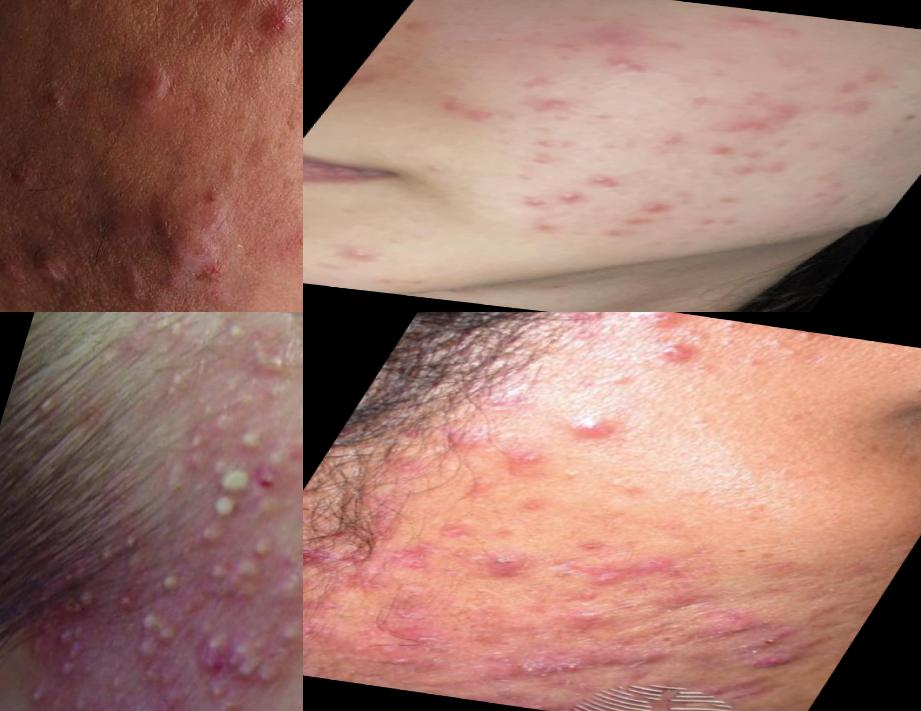cystic: (108, 175, 257, 313), (115, 47, 184, 125), (14, 242, 87, 300), (258, 1, 304, 63)
keloid: (443, 615, 703, 711), (696, 670, 777, 708), (685, 607, 755, 649), (738, 654, 795, 677)
papular: (571, 542, 710, 610), (690, 7, 802, 43), (184, 1, 304, 34), (574, 213, 680, 248), (562, 53, 677, 85), (728, 101, 814, 143), (548, 405, 631, 448), (462, 546, 543, 586), (416, 95, 509, 127), (640, 336, 714, 373), (320, 239, 404, 270), (797, 175, 871, 209), (571, 22, 657, 51), (510, 135, 584, 168), (717, 155, 800, 184), (495, 442, 556, 475), (521, 94, 591, 119), (504, 70, 572, 95), (622, 194, 680, 220), (672, 90, 737, 111), (640, 131, 694, 153), (520, 217, 574, 239), (689, 212, 746, 232), (696, 140, 748, 160)
purulent: (164, 324, 304, 468), (81, 524, 206, 652), (143, 616, 304, 711), (1, 602, 138, 711), (215, 535, 304, 627), (200, 451, 270, 517), (192, 483, 251, 535), (565, 172, 628, 190), (548, 187, 600, 206), (519, 195, 566, 212)
whitehead: (735, 326, 838, 367), (26, 67, 89, 128), (545, 460, 602, 491), (1, 108, 16, 159)
